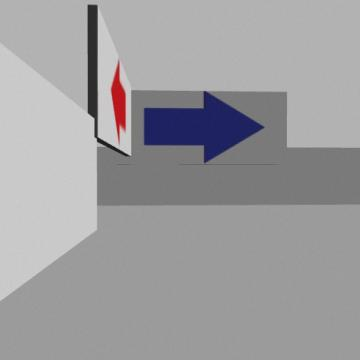blue_right: (145, 92, 263, 162)
red_left: (111, 61, 125, 145)
